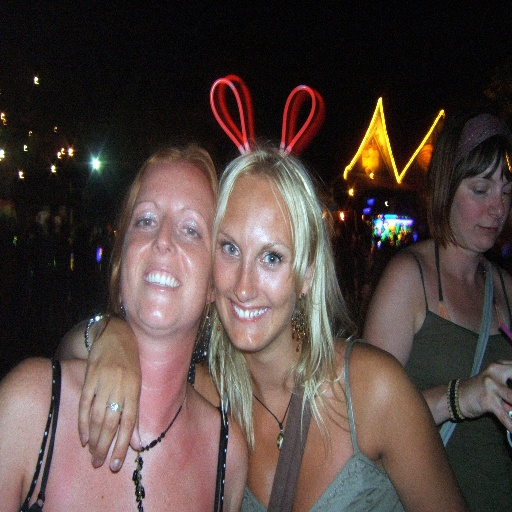hand: (66, 320, 144, 486), (459, 358, 511, 433)
